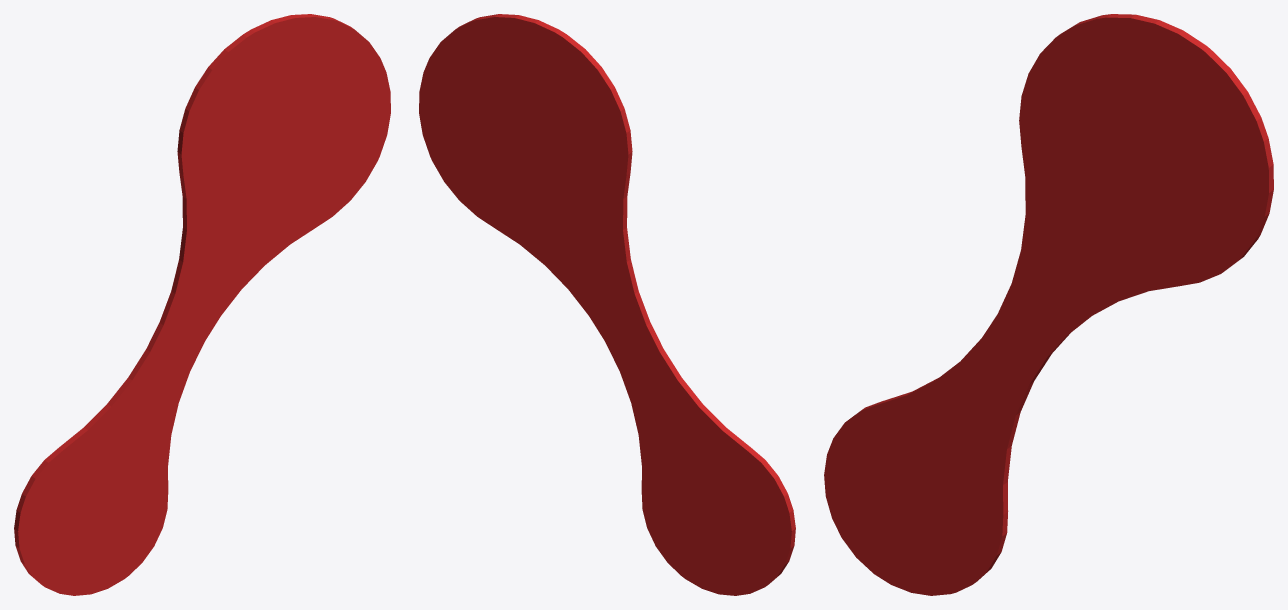
The model's file is converted_link2_24_d12626ff.obj.
3 renders of one model, left to right at view 1: azimuth 30°, elevation 25°; view 2: azimuth 150°, elevation 25°; view 3: azimuth 330°, elevation 25°, orthographic. The views are drawn at different scales.
Bounding box in the file's own units: 0.0053 × 0.00715 × 0.0001.
